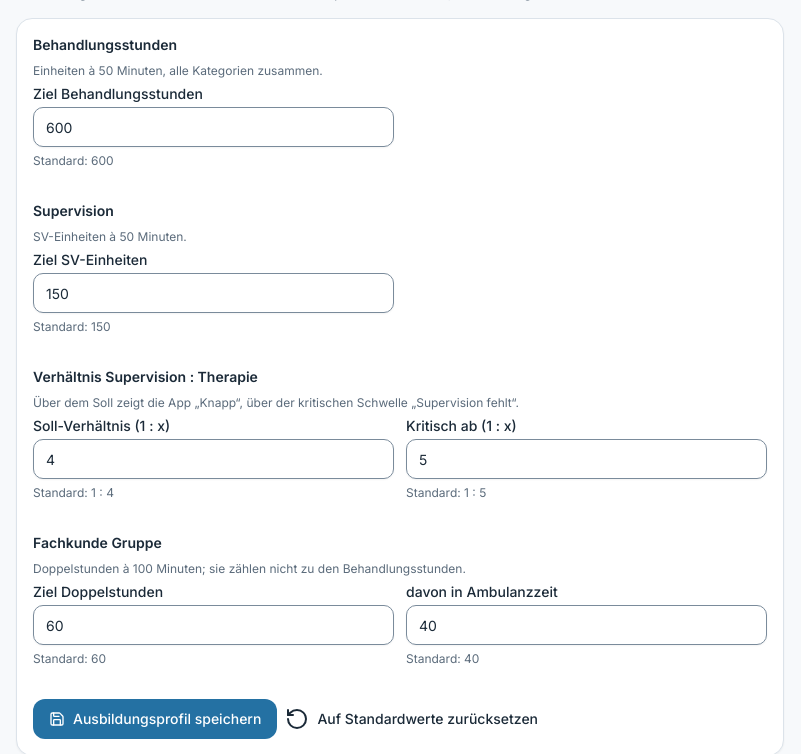
Test case: AusbildungsprofilForm › zeigt Feldfehler am Feld
(page scrolled)
Step 1. Click the button "Ausbildungsprofil speichern" → (155, 719), box [33,699,277,739]
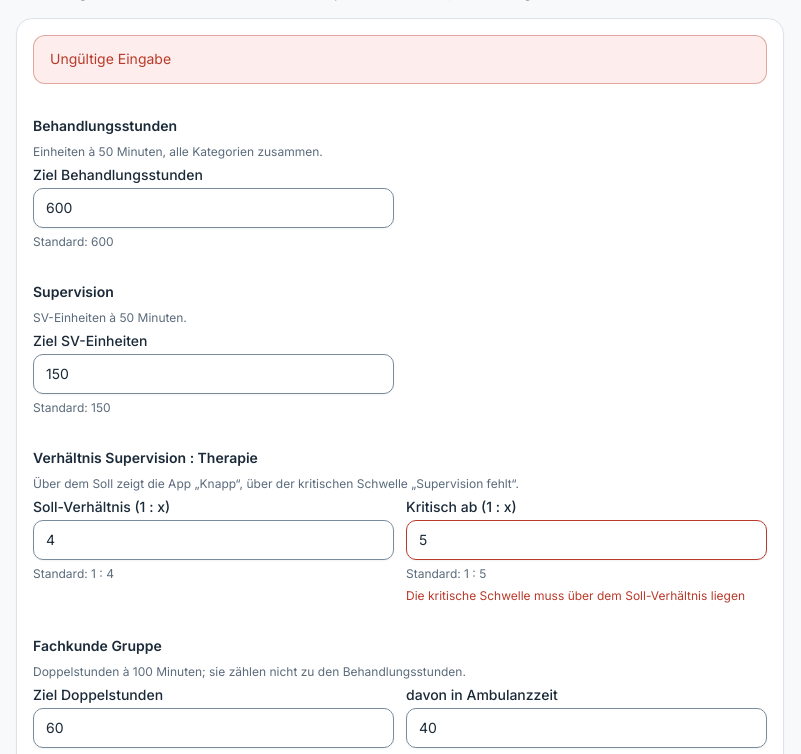
Expected: the message reads "Ungültige Eingabe", [50,50,171,67]
